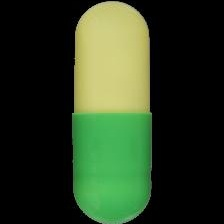0093-1136: (0, 0, 224, 224)
